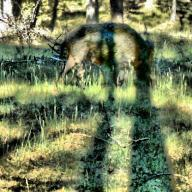boar: (47, 20, 164, 92)
